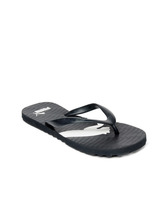shoes: (18, 97, 150, 156)
